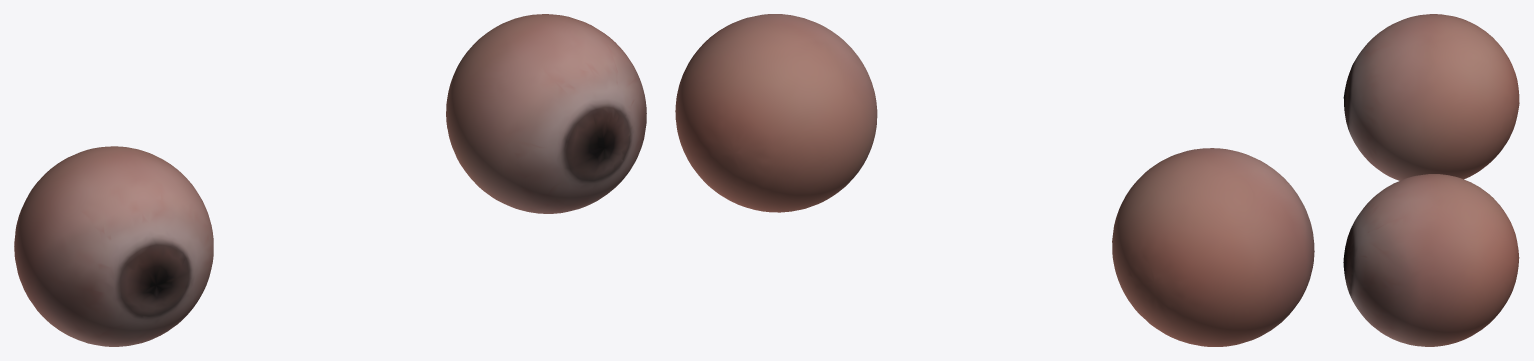
3 renders of one model, left to right at view 1: azimuth 30°, elevation 25°; view 2: azimuth 150°, elevation 25°; view 3: azimuth 270°, elevation 25°, orthographic. The views are drawn at different scales.
Visible parts, largest first — view 1: Eyes; view 2: Eyes; view 3: Eyes.
Boxes of the visible parts, x1=… form: Eyes: x1=14, y1=14, x2=646, y2=346; Eyes: x1=675, y1=14, x2=1314, y2=346; Eyes: x1=1343, y1=14, x2=1519, y2=346.
Size of the model in its own units: 0.1059 by 0.0345 by 0.0306.
